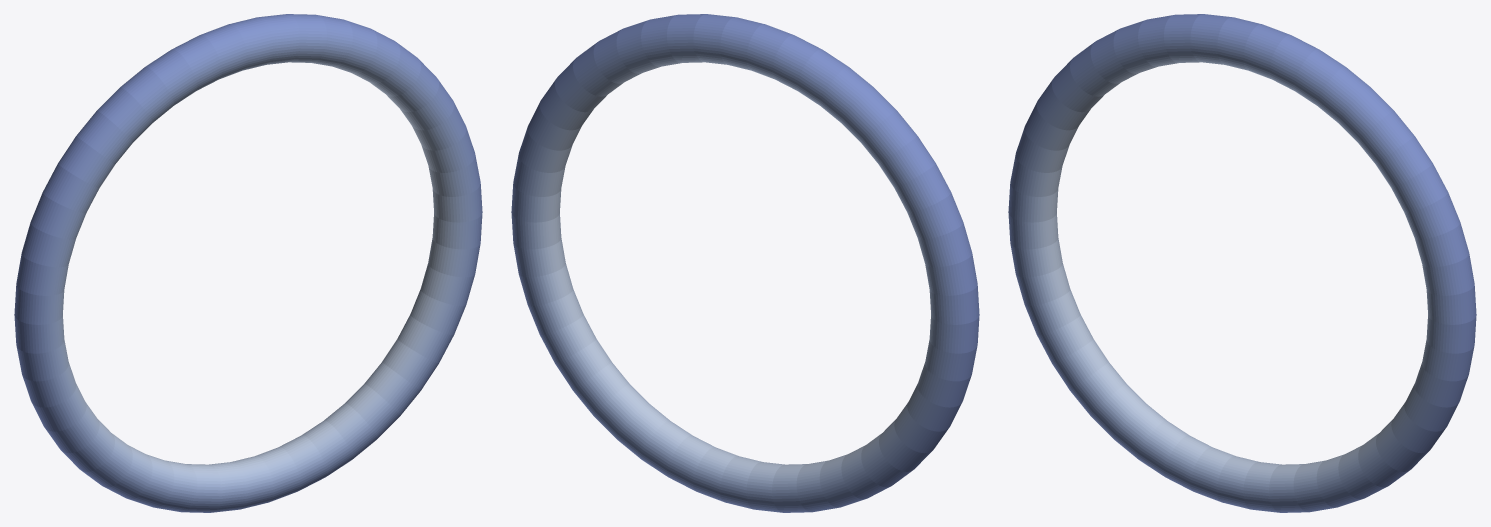
The picture shows the model from 3 angles, left to right: view 1: azimuth 30°, elevation 25°; view 2: azimuth 150°, elevation 25°; view 3: azimuth 330°, elevation 25°; orthographic projection.
Visible parts, largest first — view 1: world; view 2: world; view 3: world.
Boxes of the visible parts, bbox=[...] form: world: bbox=[14, 14, 482, 512]; world: bbox=[511, 14, 979, 512]; world: bbox=[1008, 14, 1476, 512].
Size of the model in its own units: 30.8 by 30.74 by 2.79.
